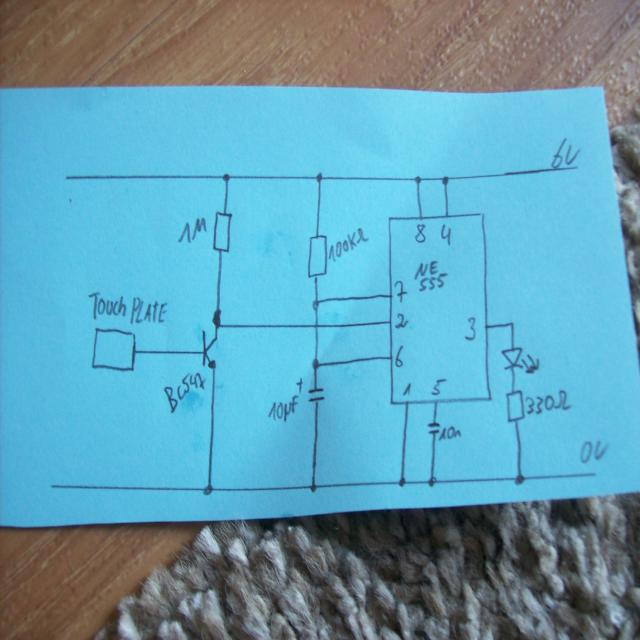capacitor: (296, 376, 326, 404), (427, 420, 440, 435)
crossover: (312, 320, 321, 330)
diode: (500, 345, 540, 375)
junction: (211, 308, 223, 329), (513, 472, 525, 486), (202, 483, 213, 496), (312, 297, 321, 311), (427, 476, 437, 488), (310, 357, 320, 369), (315, 171, 324, 183), (440, 174, 449, 186), (397, 476, 406, 487), (308, 482, 317, 493), (413, 174, 422, 185), (222, 171, 230, 183), (509, 320, 515, 328)
resistor: (306, 232, 328, 280), (211, 210, 233, 254), (505, 388, 525, 423)
terminal: (90, 326, 136, 372), (588, 466, 598, 481), (63, 172, 73, 182), (572, 163, 580, 172), (49, 482, 56, 488)
text: (87, 290, 168, 324), (163, 371, 205, 413), (328, 227, 370, 262), (525, 388, 571, 415), (413, 259, 448, 292), (549, 135, 581, 168), (267, 393, 298, 423), (177, 216, 208, 243), (579, 439, 608, 464), (438, 425, 462, 441), (462, 316, 477, 341), (393, 278, 408, 303), (439, 222, 452, 246), (431, 377, 446, 396), (394, 343, 405, 368), (414, 222, 426, 243), (394, 312, 408, 329), (402, 382, 412, 397)
transistor: (201, 329, 218, 371)
